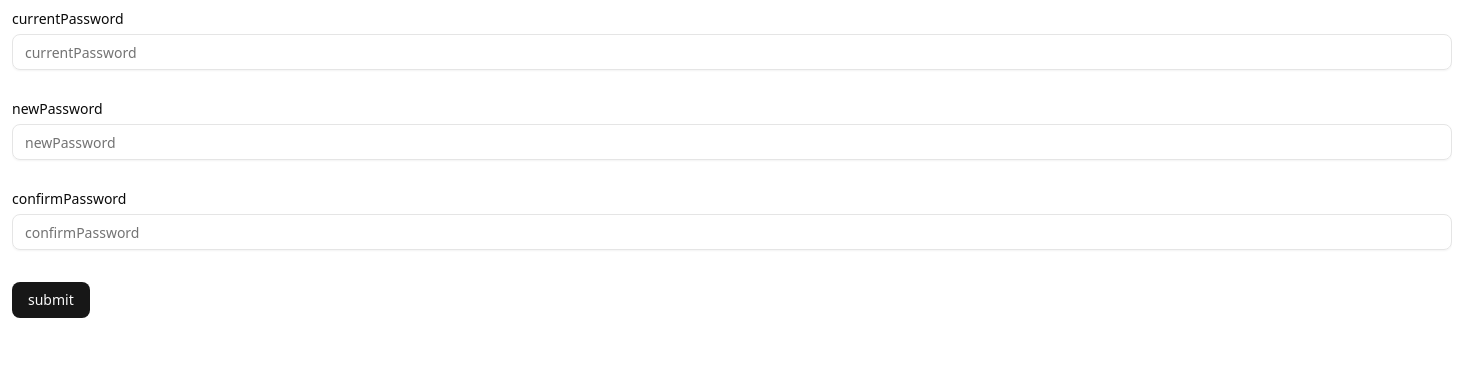
shows the password strength meter under newPassword as it is typed
Expected: the text "passwordStrength:" is not shown
In the password field labelled "newPassword": [732, 142] box [12,124,1452,160], type "Tr0ub4dor&Xk9mPqLz!"
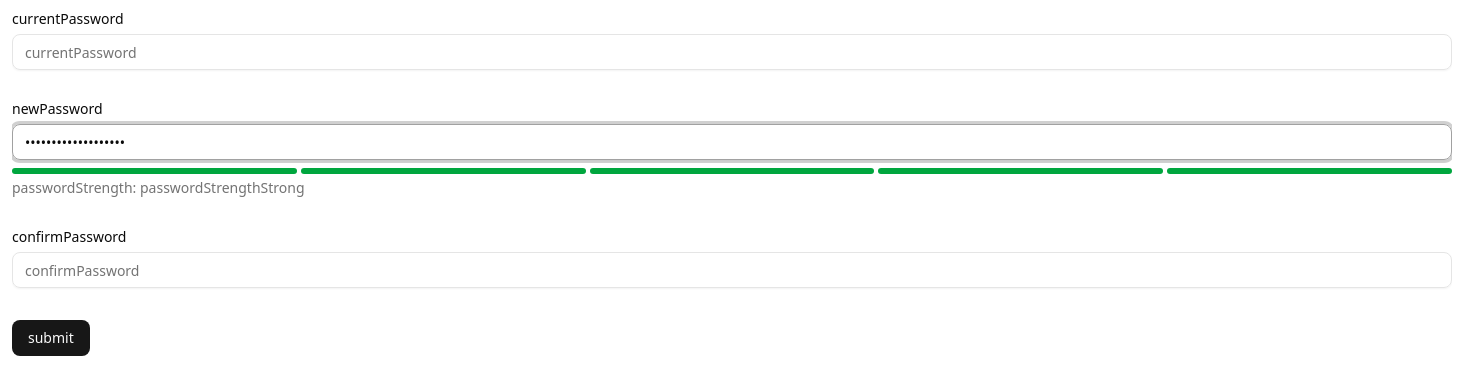
Expected: the text "passwordStrength: passwordStrengthStrong" is shown, [12,178,304,197]
